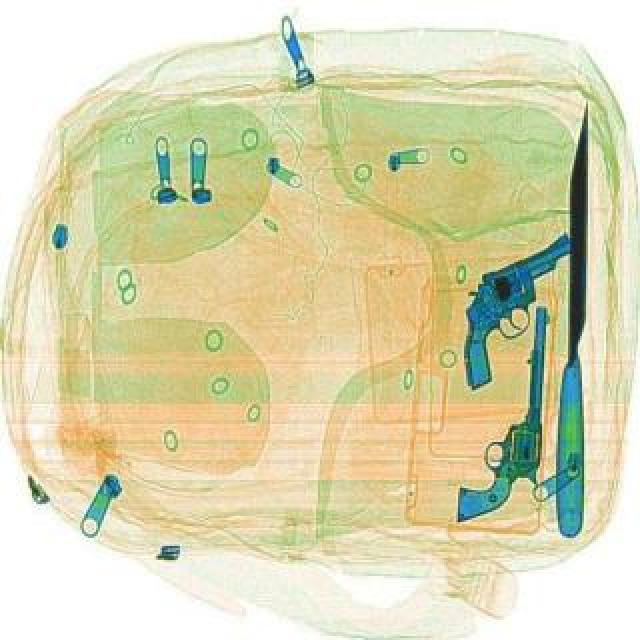gun: (418, 232, 618, 392), (456, 300, 548, 522)
knife: (552, 102, 596, 534)
